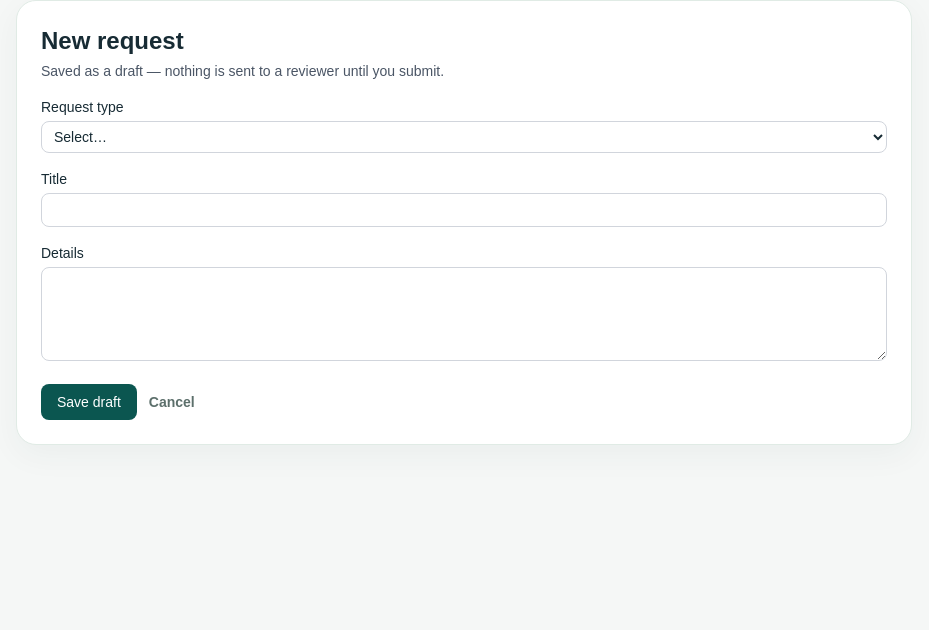
Test case: RequestFormPage › derives a read-only quantity from the leave date range
Select "Annual leave" in the dropdown labelled "Request type": (464, 137) [41,121,887,153]
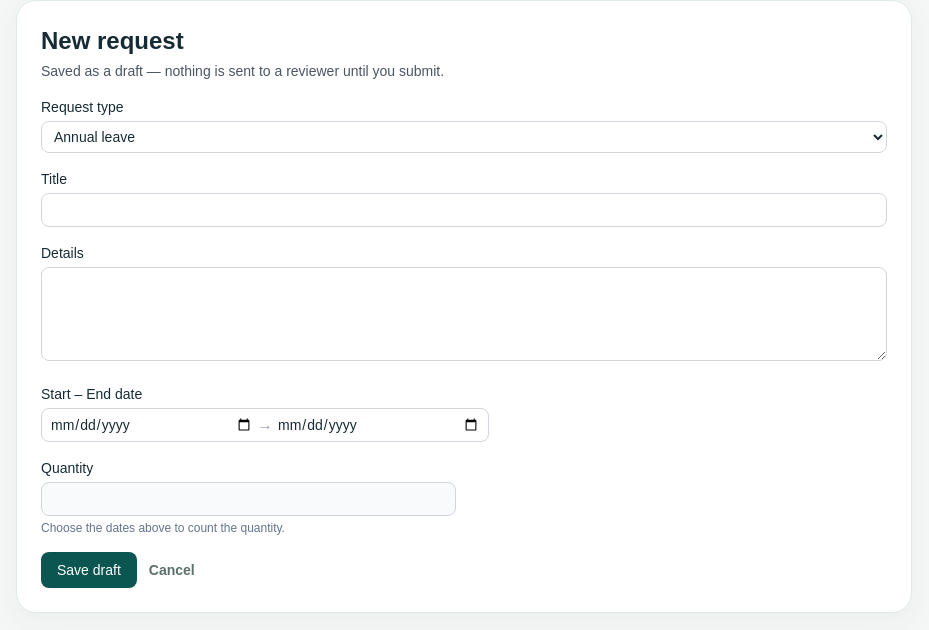
Expected: the number field labelled "Quantity" is not empty, [41,482,456,516]
In the date field named "start date": (152, 425) [50,409,253,441], type "2026-07-01"
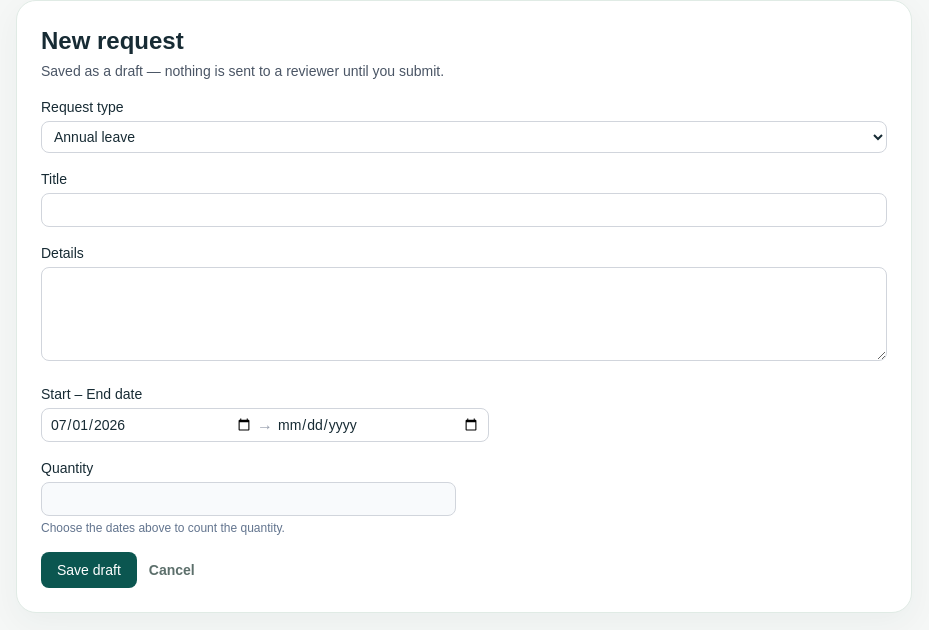
In the date field named "end date": (378, 425) [277,409,480,441], type "2026-07-14"
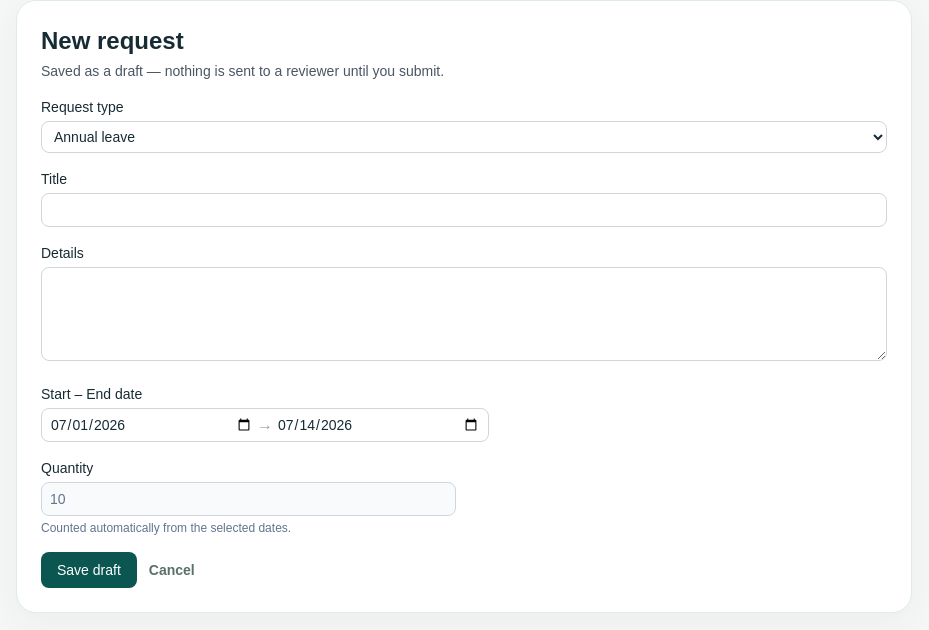
Expected: the number field labelled "Quantity" holds "10", [41,482,456,516]
In the date field named "end date": (378, 425) [277,409,480,441], type "2026-07-03"
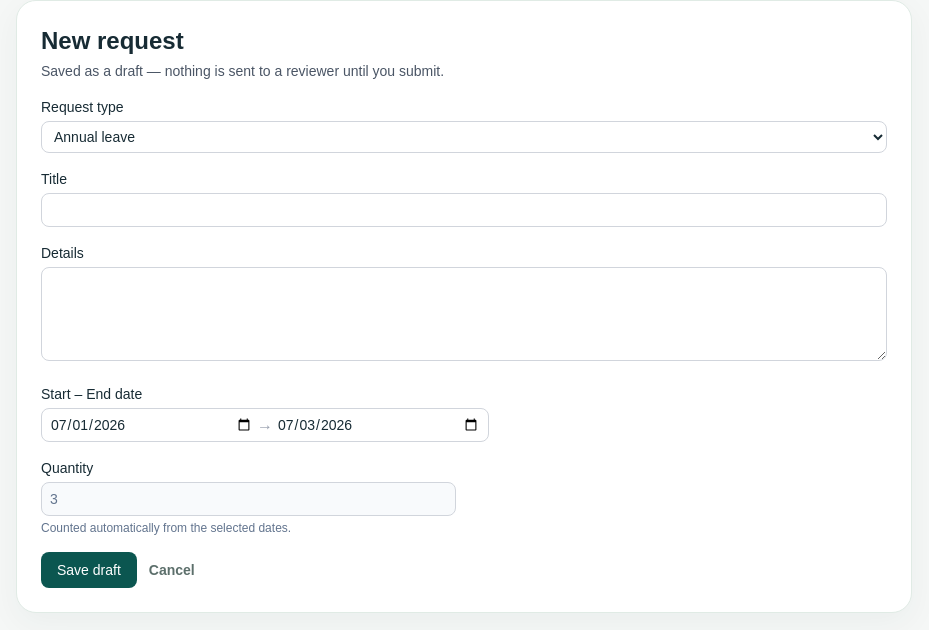
Expected: the number field labelled "Quantity" holds "3", [41,482,456,516]
